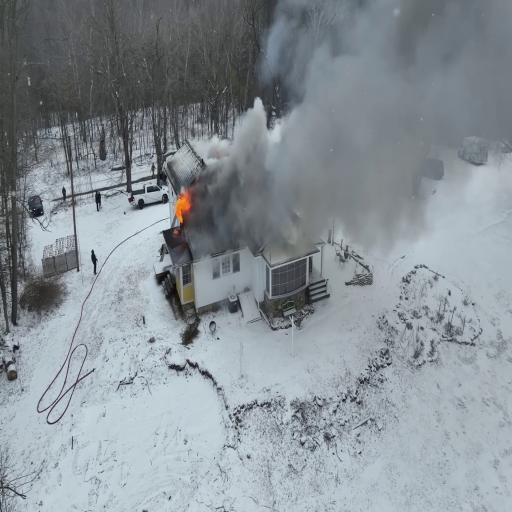fire: (176, 194, 188, 220)
smoke: (206, 144, 270, 218)
